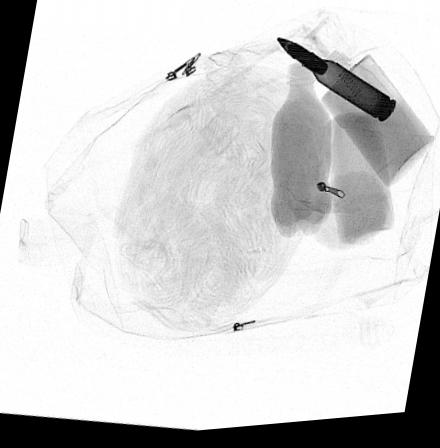Bullet: (274, 40, 396, 129)
